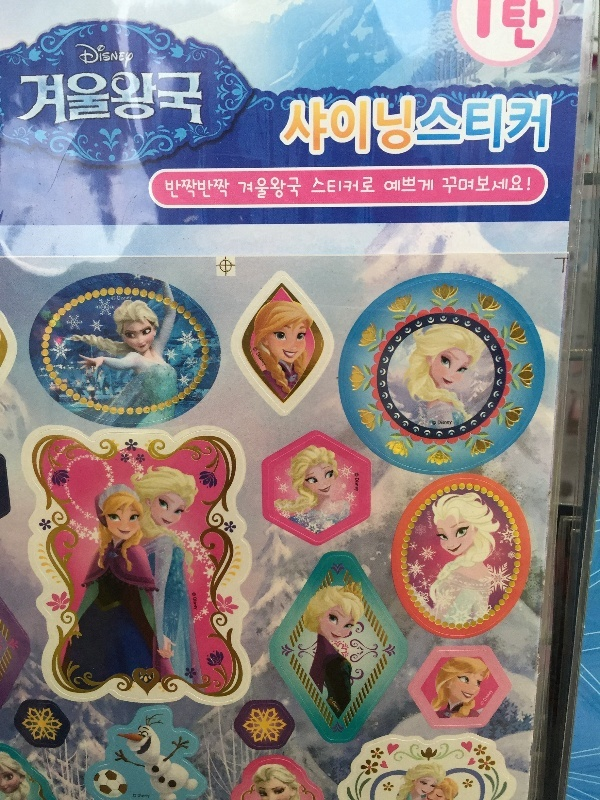text: (289, 94, 304, 158), (305, 94, 320, 158), (321, 94, 336, 158), (337, 94, 352, 158), (353, 94, 368, 158), (369, 94, 384, 158), (385, 94, 400, 158), (401, 94, 416, 158), (417, 94, 432, 158), (433, 94, 448, 158), (449, 94, 464, 158), (465, 94, 480, 158), (481, 94, 496, 158), (497, 94, 512, 158), (513, 94, 528, 158), (529, 94, 544, 158), (33, 72, 48, 125), (49, 72, 64, 125), (65, 72, 80, 125), (81, 72, 96, 125), (97, 72, 112, 125), (113, 72, 128, 125), (129, 72, 144, 125), (145, 72, 160, 125), (161, 72, 176, 125), (177, 72, 192, 125), (481, 2, 496, 55), (497, 2, 512, 55), (513, 2, 528, 55), (529, 2, 544, 55), (20, 72, 32, 125), (193, 72, 203, 125), (280, 94, 288, 158), (545, 94, 553, 158), (81, 43, 96, 69), (97, 43, 112, 69), (113, 43, 128, 69), (241, 179, 256, 200), (257, 179, 272, 200), (273, 179, 288, 200), (177, 180, 192, 199), (193, 180, 208, 199), (209, 180, 224, 199), (449, 177, 464, 196), (465, 177, 480, 196), (481, 177, 496, 196), (497, 177, 512, 196), (513, 177, 528, 196), (289, 179, 302, 200), (321, 179, 336, 196), (337, 179, 352, 196), (353, 179, 368, 196), (164, 180, 176, 199), (385, 179, 400, 194), (401, 179, 416, 194), (417, 179, 432, 194), (545, 2, 549, 55), (477, 2, 480, 55), (312, 179, 320, 196), (441, 177, 448, 196), (75, 43, 80, 69), (129, 43, 134, 69), (369, 179, 376, 196), (225, 180, 231, 199), (529, 177, 532, 196), (433, 179, 435, 194), (239, 179, 240, 200)
